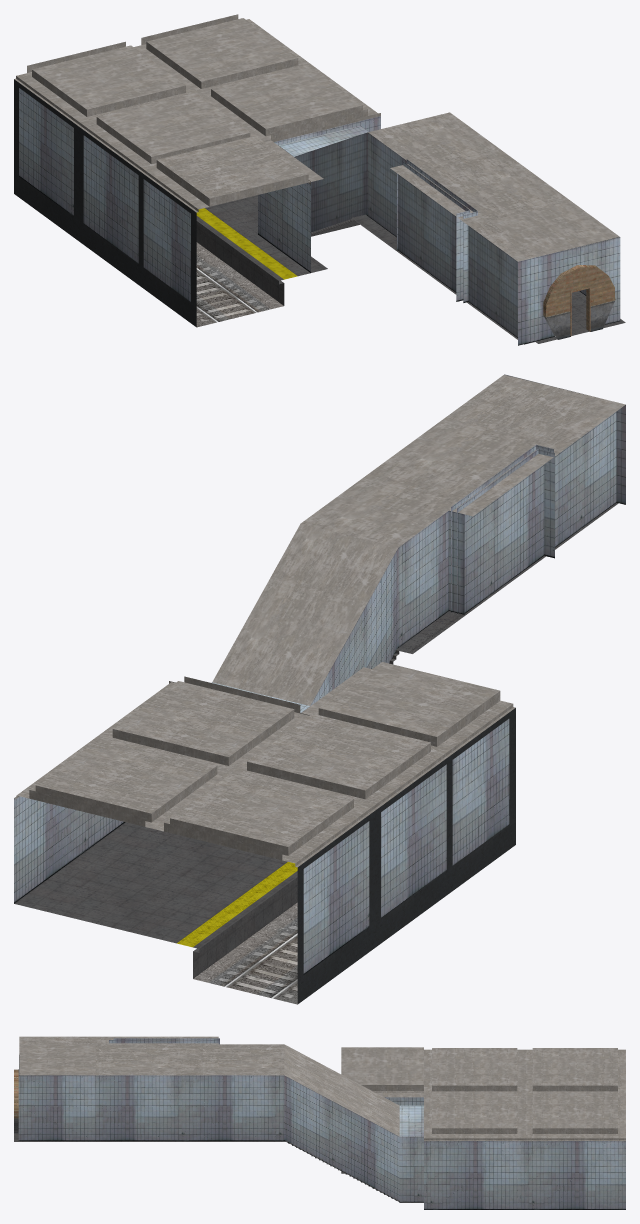
The model's file is metro stairs.glb.
3 views of the same model, one above another, from view 1: azimuth 30°, elevation 25°; view 2: azimuth 150°, elevation 25°; view 3: azimuth 270°, elevation 25° (orthographic). The views are drawn at different scales.
Visible parts, largest first — view 1: SerwersP1_008, SerwersP1_008.001, Stairs, Estruc.001; view 2: SerwersP1_008, Estruc.001, Stairs; view 3: SerwersP1_008, Estruc.001, Stairs, SerwersP1_008.001.
Boxes of the visible parts, x1=… form: SerwersP1_008: x1=14, y1=14, x2=620, y2=345; SerwersP1_008.001: x1=543, y1=265, x2=615, y2=339; Stairs: x1=311, y1=214, x2=625, y2=344; Estruc.001: x1=402, y1=159, x2=477, y2=302; SerwersP1_008: x1=14, y1=374, x2=625, y2=1004; Estruc.001: x1=451, y1=444, x2=554, y2=613; Stairs: x1=389, y1=502, x2=618, y2=664; SerwersP1_008: x1=18, y1=1036, x2=625, y2=1209; Estruc.001: x1=109, y1=1038, x2=219, y2=1044; Stairs: x1=14, y1=1133, x2=399, y2=1200; SerwersP1_008.001: x1=14, y1=1069, x2=18, y2=1133.
Size of the model in its own units: 13.23 by 10.3 by 37.94.
Materials: 10 (9 with a texture image).
